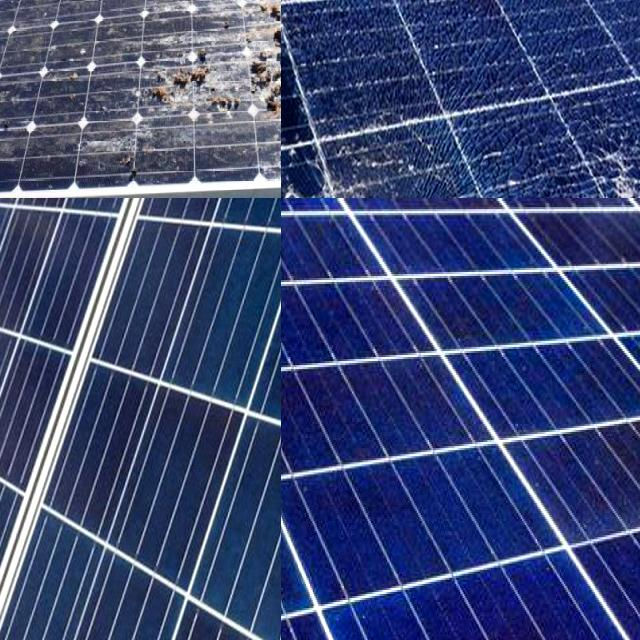bird: (146, 38, 215, 114), (215, 0, 272, 63), (241, 46, 281, 117), (100, 0, 137, 41), (176, 0, 211, 42), (258, 0, 281, 48)
crack: (281, 217, 640, 640), (0, 198, 281, 640)
hotspot: (550, 127, 640, 198)
